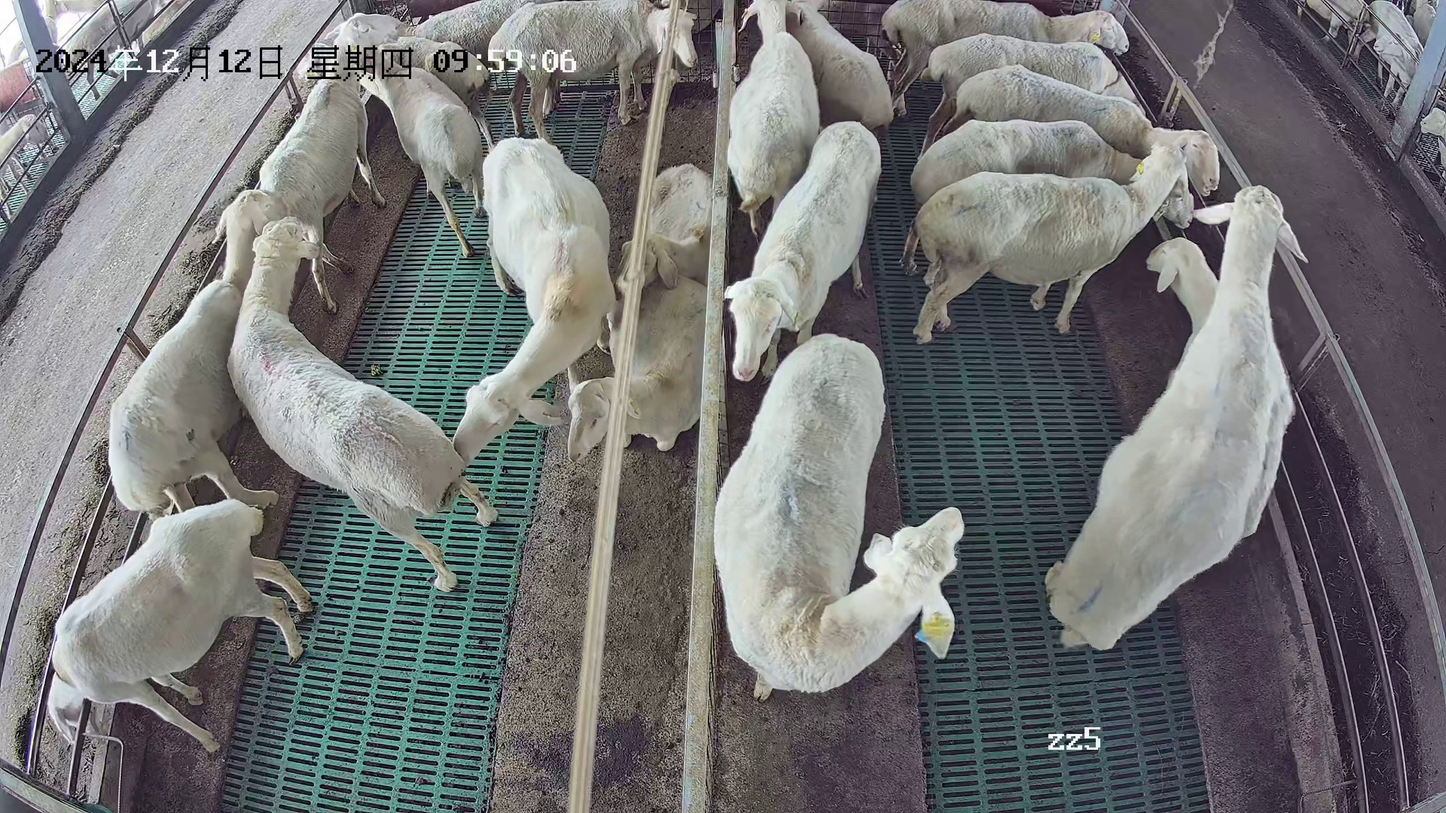Smounting: (1042, 183, 1309, 653)
mounted: (1142, 234, 1219, 389)
